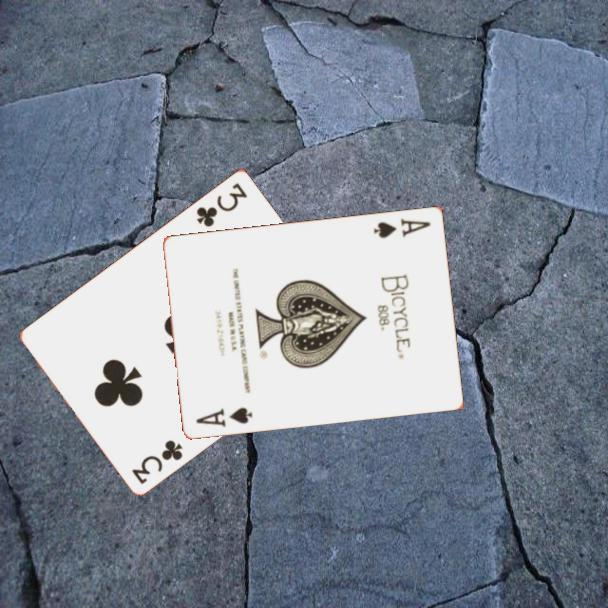c03: (193, 179, 251, 230), (128, 436, 186, 487)
s01: (370, 214, 434, 241), (193, 403, 255, 430)
